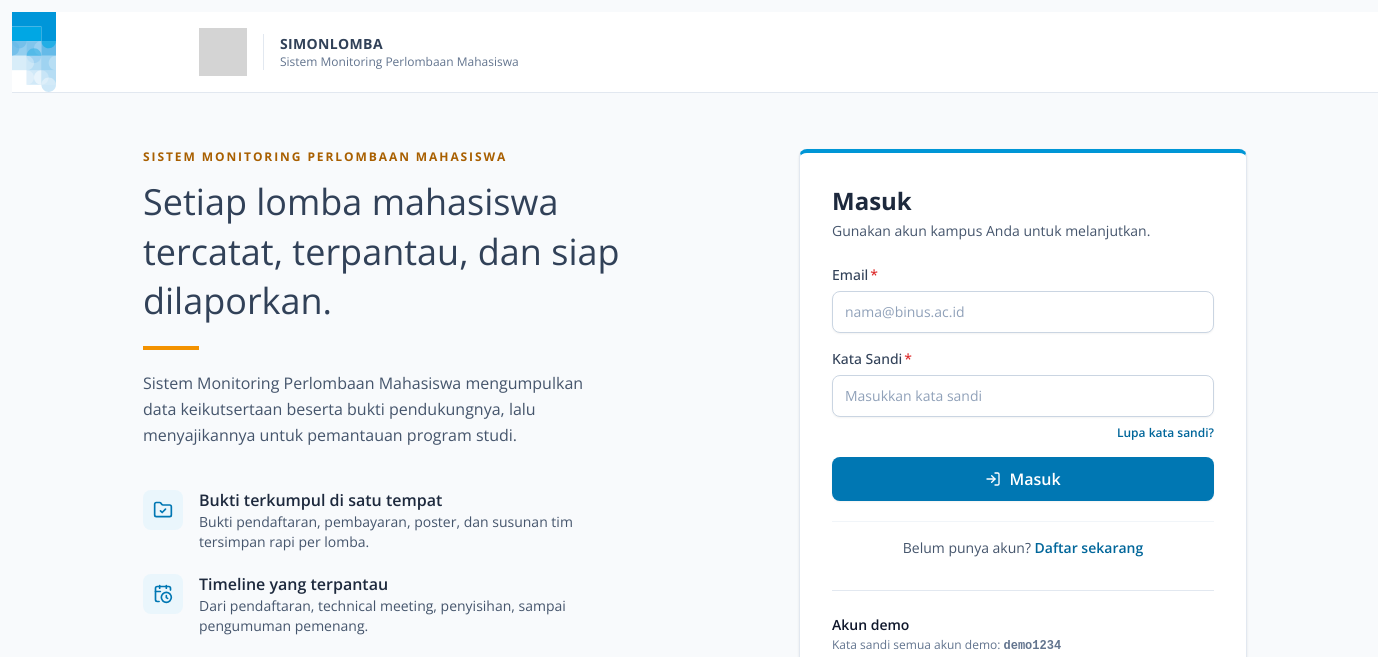
Test case: Halaman login › memvalidasi field kosong tanpa memanggil service
Click the button "Masuk": (1023, 479) [832,457,1214,501]
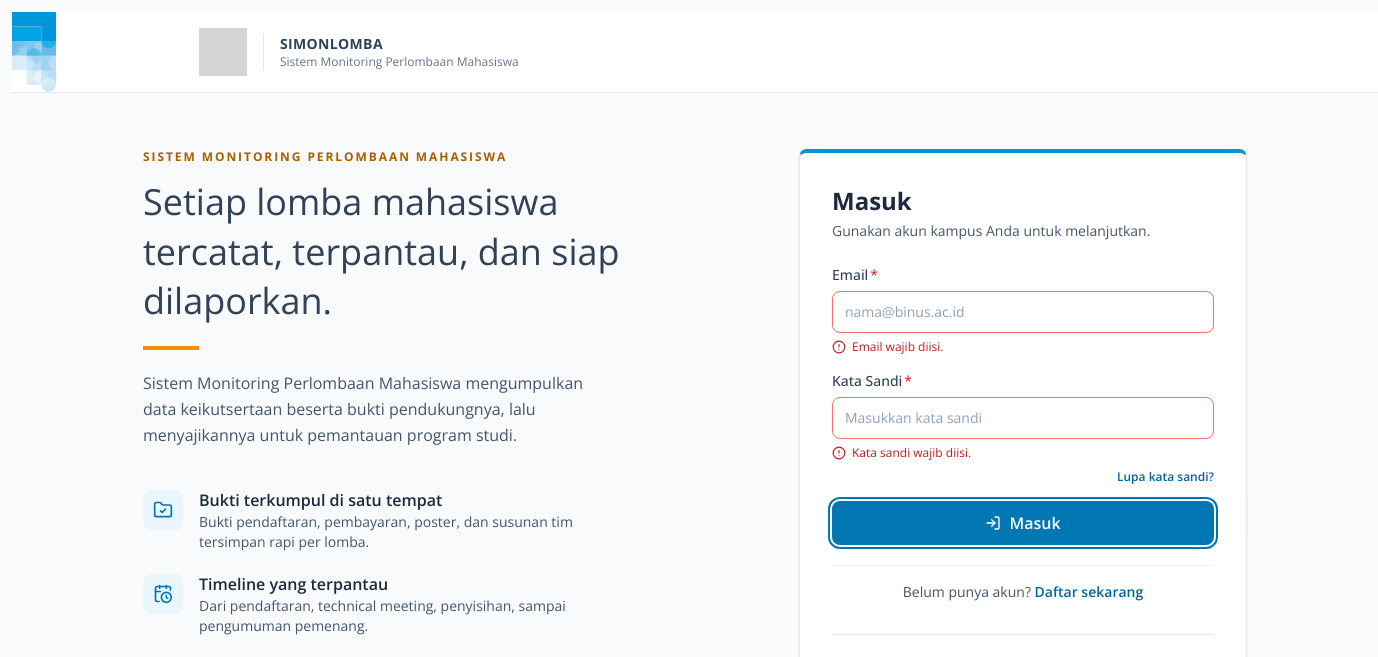
Expected: the text "Email wajib diisi." is shown, [852,339,943,355]
Expected: the text "Kata sandi wajib diisi." is shown, [852,445,971,461]
